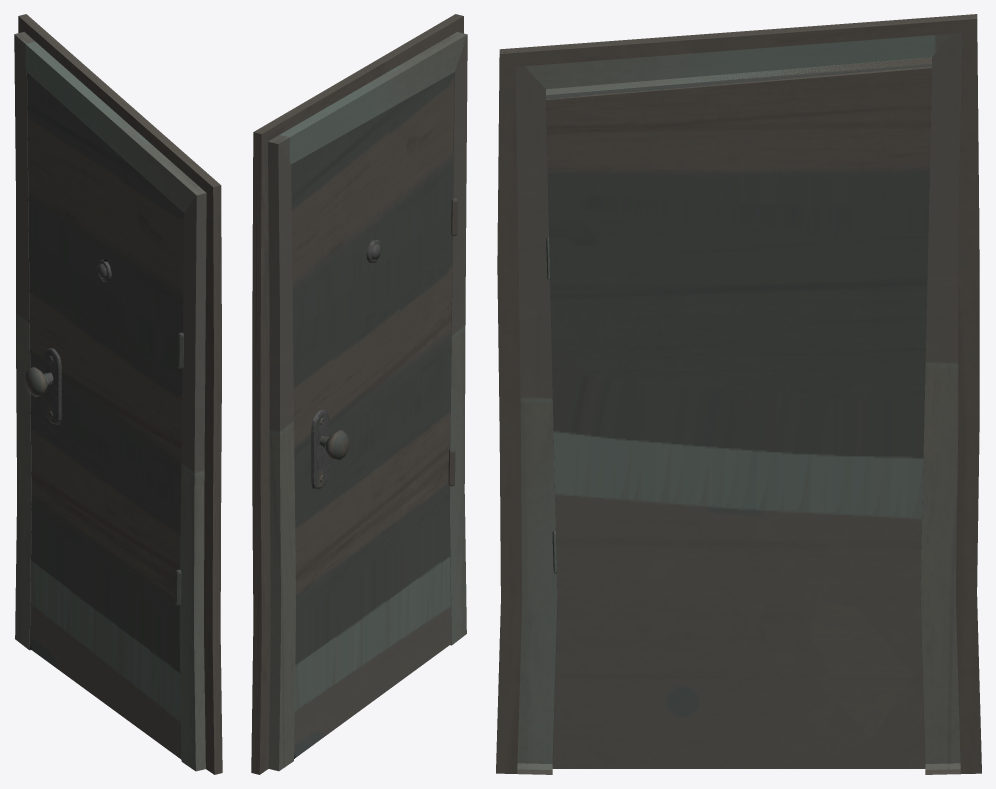
Rendered from Neighbour_entrance_door2.fbx.
The picture shows the model from 3 angles, left to right: view 1: azimuth 30°, elevation 25°; view 2: azimuth 150°, elevation 25°; view 3: azimuth 270°, elevation 25°; orthographic projection. The views are drawn at different scales.
Parts seen in each view (by area): view 1: двери соседи.003, двери.007; view 2: двери соседи.003, двери.007; view 3: двери соседи.003.
Part boxes in pixels (bbox=[...]): двери соседи.003: bbox=[14, 14, 222, 774]; двери.007: bbox=[24, 367, 53, 397]; двери соседи.003: bbox=[251, 14, 467, 774]; двери.007: bbox=[319, 430, 349, 460]; двери соседи.003: bbox=[496, 14, 981, 774].
Bounding box in the file's own units: 17.33 × 236 × 137.
